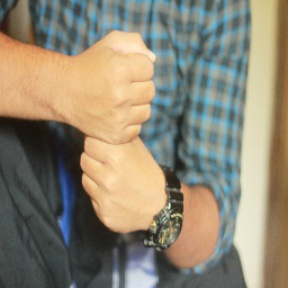G: (74, 25, 169, 230)
